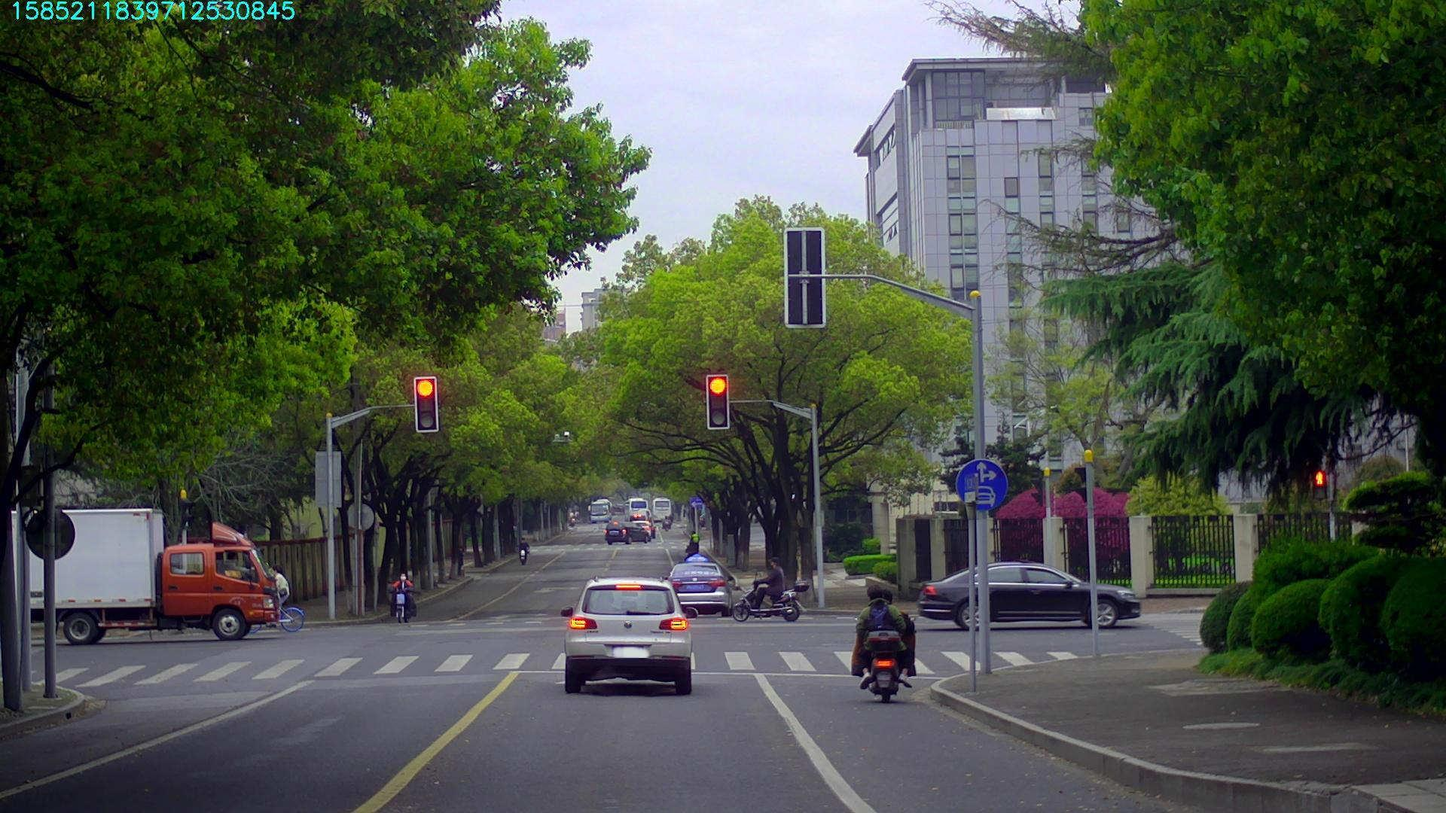red: (413, 377, 438, 431), (707, 376, 727, 428)
